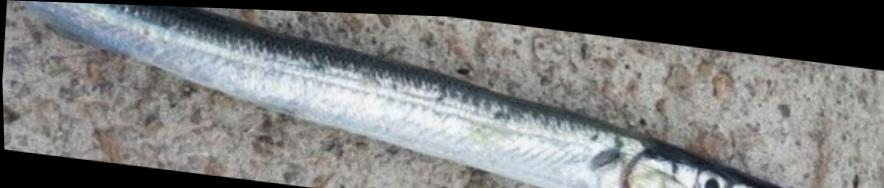fish: (10, 0, 791, 188)
